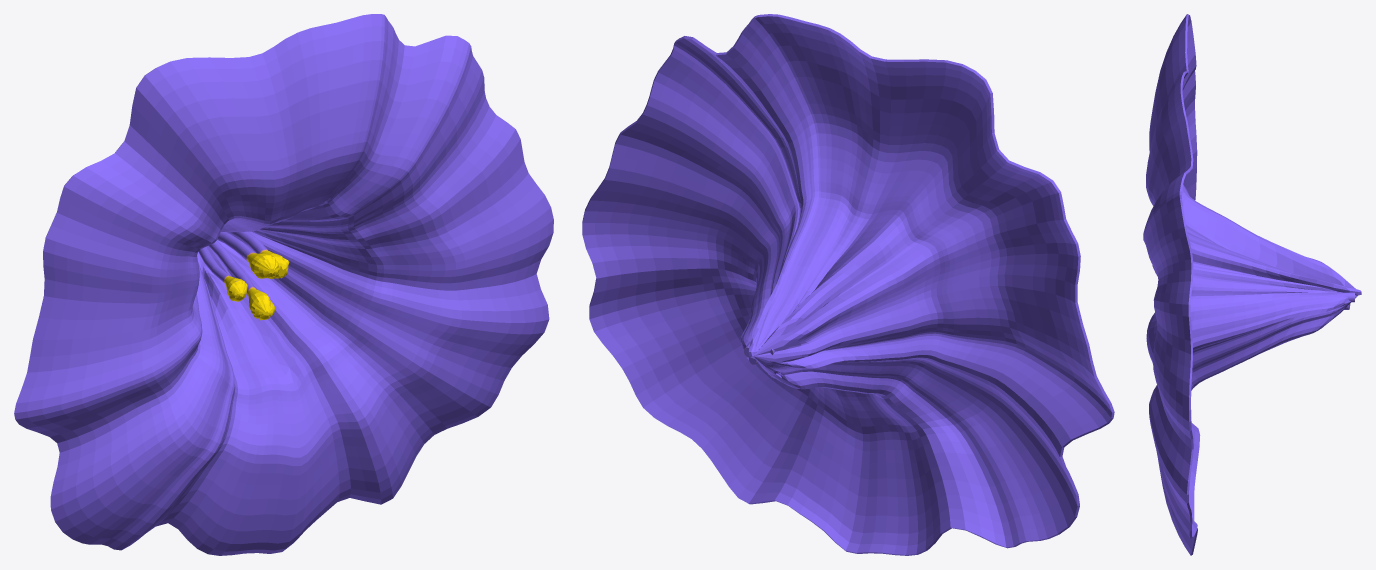
File: flower.fbx
3 views of the same model, side by side, from view 1: azimuth 30°, elevation 25°; view 2: azimuth 150°, elevation 25°; view 3: azimuth 270°, elevation 25° (orthographic). The views are drawn at different scales.
Visible parts, largest first — view 1: main flower; view 2: main flower; view 3: main flower.
Boxes of the visible parts, x1,y1,x2,y2 form: main flower: [14, 14, 553, 555]; main flower: [582, 14, 1114, 555]; main flower: [1143, 14, 1361, 555].
Bounding box in the file's own units: 223 × 207 × 87.68.
